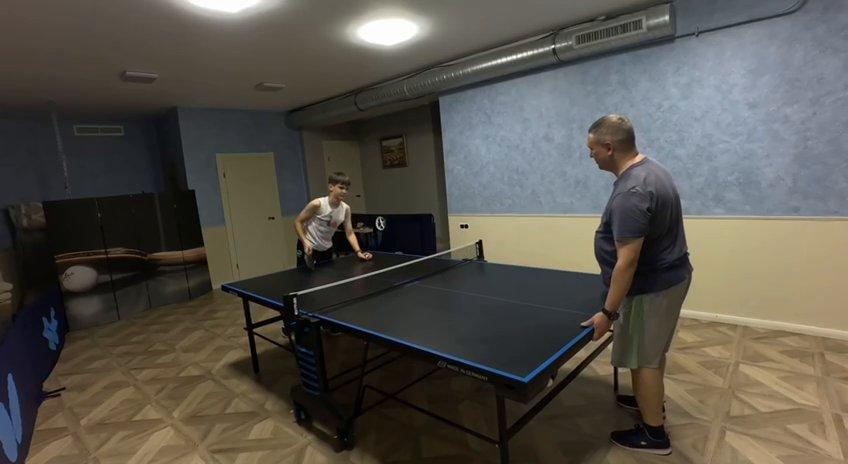Net: (281, 241, 483, 325)
Player1: (295, 173, 371, 268)
Player2: (588, 115, 691, 456)
Table: (223, 254, 636, 379)
